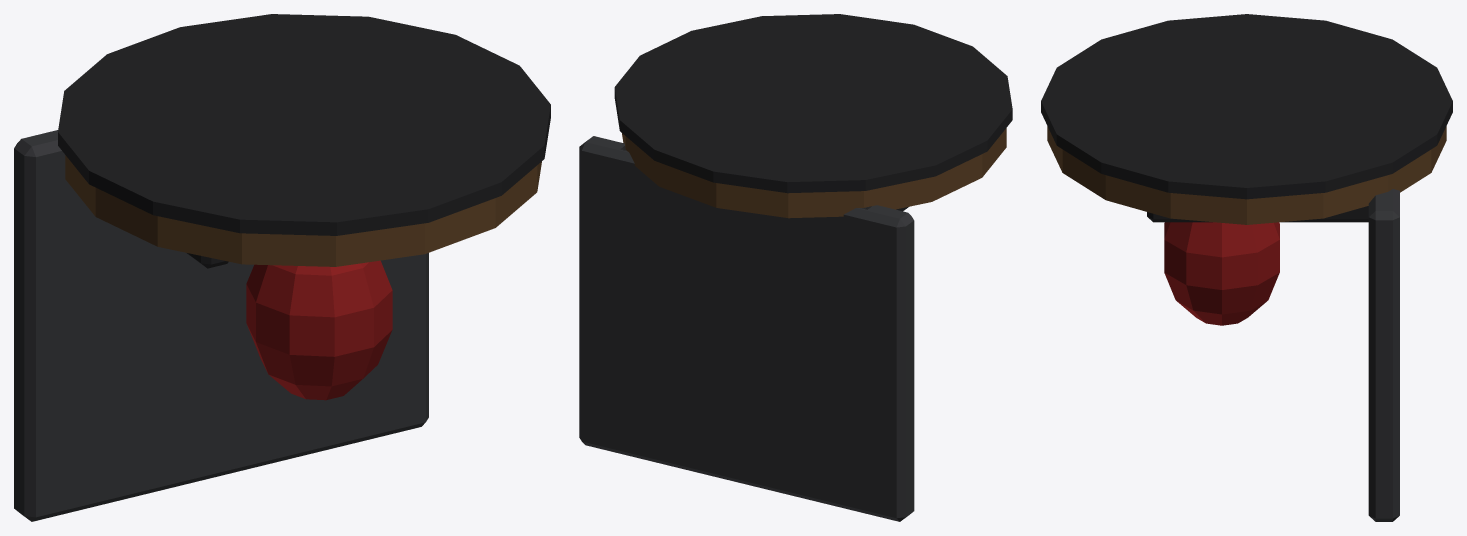
Rendered from speed_ball.glb.
3 views of the same model, side by side, from view 1: azimuth 30°, elevation 25°; view 2: azimuth 150°, elevation 25°; view 3: azimuth 270°, elevation 25° (orthographic). The views are drawn at different scales.
Parts seen in each view (by area): view 1: speed_ball; view 2: speed_ball; view 3: speed_ball.
Boxes of the visible parts, bbox=[...] form: speed_ball: bbox=[14, 14, 550, 521]; speed_ball: bbox=[579, 14, 1012, 521]; speed_ball: bbox=[1041, 14, 1452, 521].
Size of the model in its own units: 0.66 by 0.605 by 0.66.
